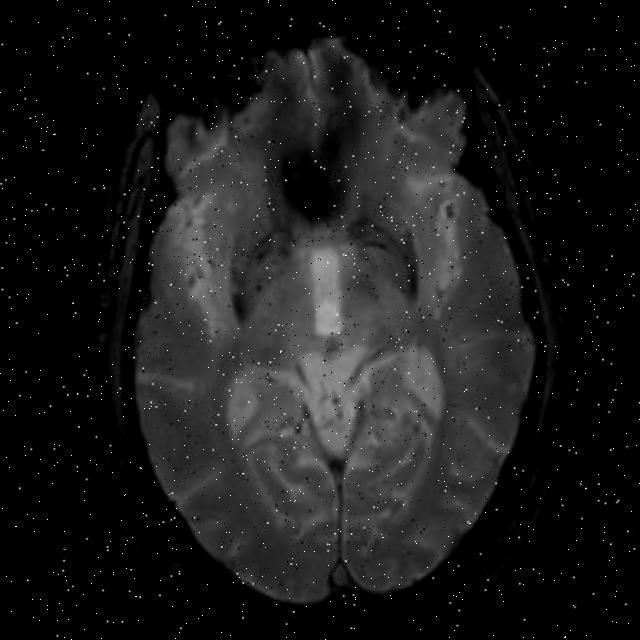MCI: (326, 164, 418, 320), (198, 228, 306, 318), (262, 135, 348, 203)
